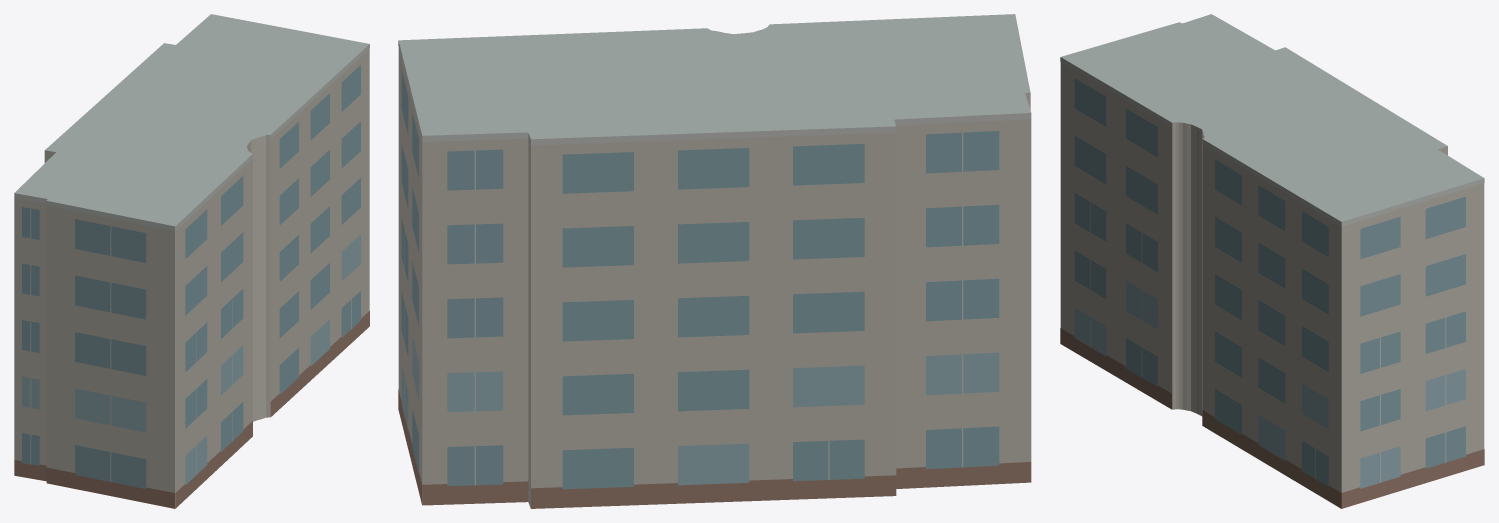
Rendered from survey-upis-32981870.glb.
3 views of the same model, side by side, from view 1: azimuth 30°, elevation 25°; view 2: azimuth 150°, elevation 25°; view 3: azimuth 270°, elevation 25° (orthographic). The views are drawn at different scales.
Visible parts, largest first — view 1: survey-upis-32981870.tmp; view 2: survey-upis-32981870.tmp; view 3: survey-upis-32981870.tmp.
Part boxes in pixels (x1,y1,x2,y2): survey-upis-32981870.tmp: [14, 14, 369, 508]; survey-upis-32981870.tmp: [398, 14, 1031, 508]; survey-upis-32981870.tmp: [1060, 14, 1484, 508].
Bounding box in the file's own units: 22.55 × 14.5 × 19.42.
